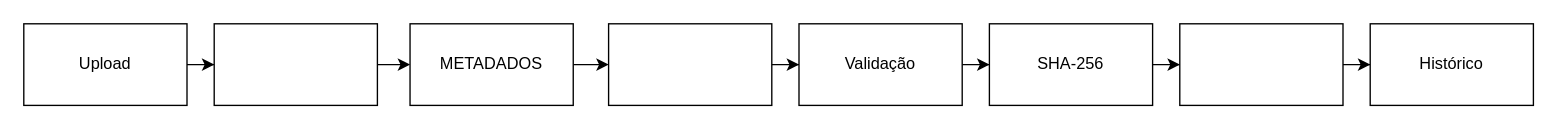
Some shapes in this 1557 by 129 pixel diagram are drawn without their labels. Here are the shapes that lost their labels. From the top down, the centre of each, then its label:
At pixel 295 63: "OCR/IA".
At pixel 689 63: "conferência humana".
At pixel 1260 63: "MySql".
